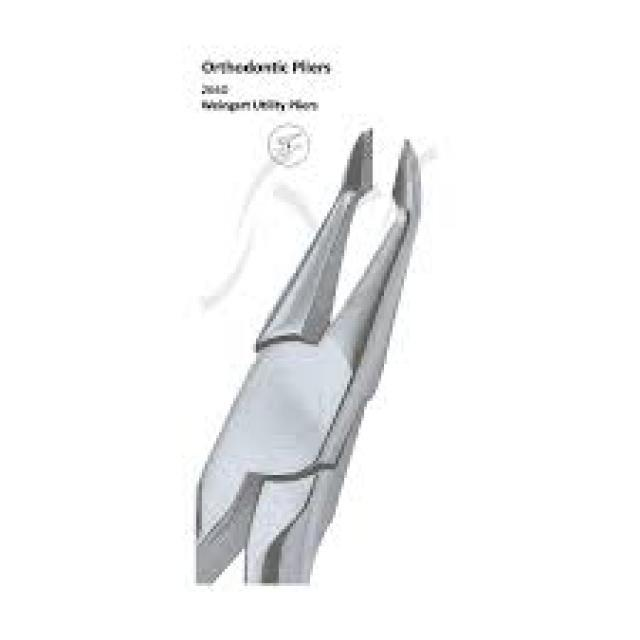pliers: (190, 121, 444, 573)
